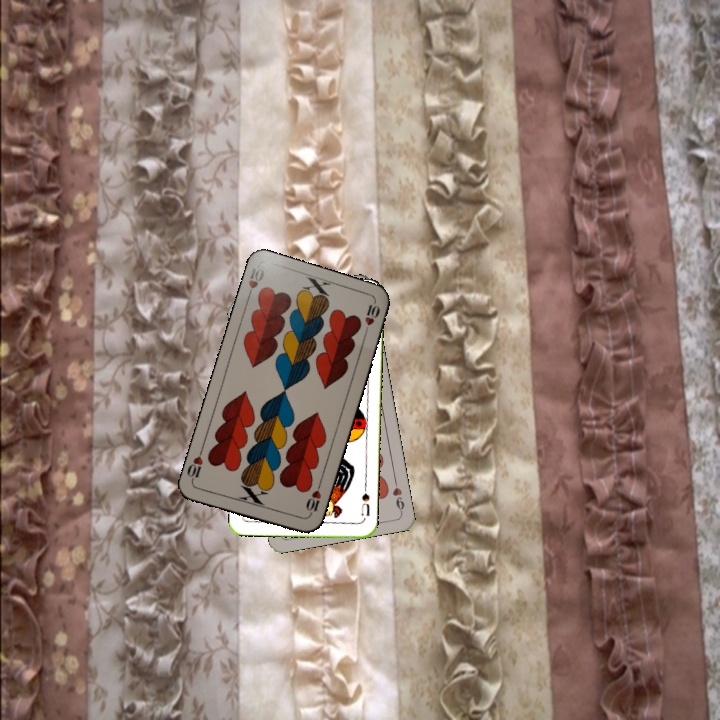H10: (242, 263, 267, 303), (302, 480, 324, 519)
H9: (388, 475, 407, 515)
SU: (357, 482, 372, 518)
